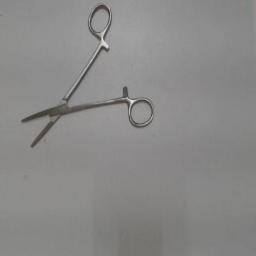Mayo Needle Holder: (16, 0, 160, 156)
